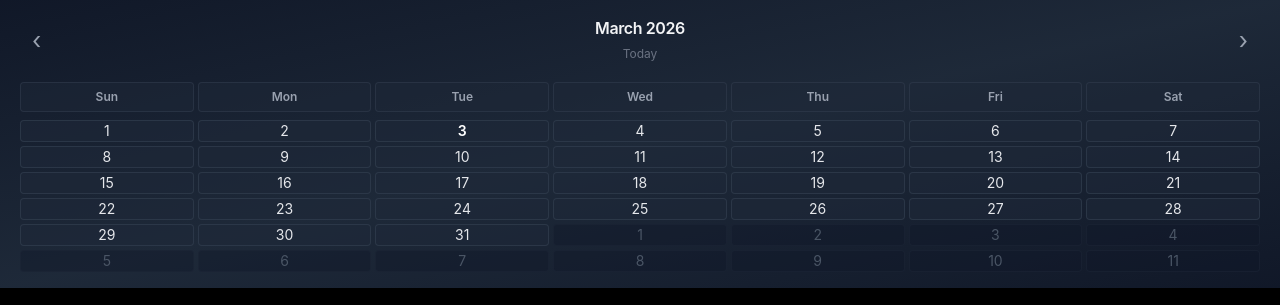
it: <Calendar /> › should navigate to next month
Click the button "›".
click(1243, 41)  # box [1231,21,1256,61]
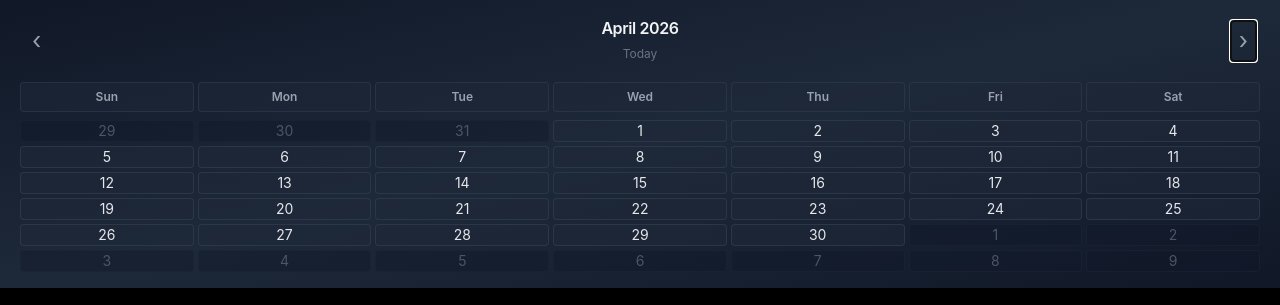
expect the heading "April 2026" is shown: met, box [601,16,679,40]
